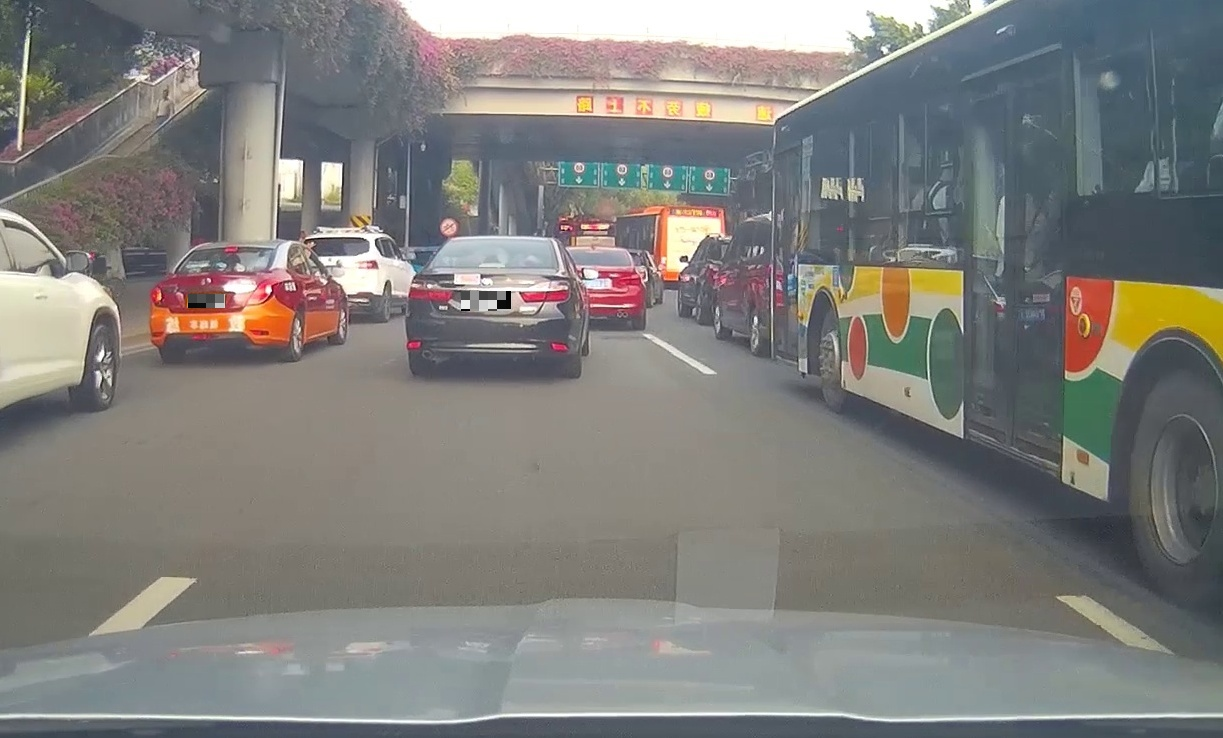L_light: (408, 279, 452, 302), (150, 283, 168, 307)
R_light: (519, 280, 571, 302), (245, 277, 282, 305)
T_light: (479, 263, 505, 269), (223, 246, 238, 252)
day-brake: (149, 240, 284, 361)
day-no: (405, 235, 580, 378)
plate_1: (188, 294, 225, 308)
plate_2: (461, 291, 511, 311)
